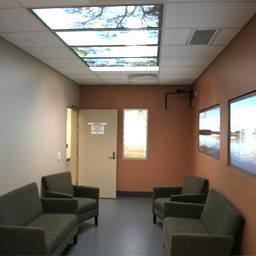Puerta: (76, 110, 118, 195)
